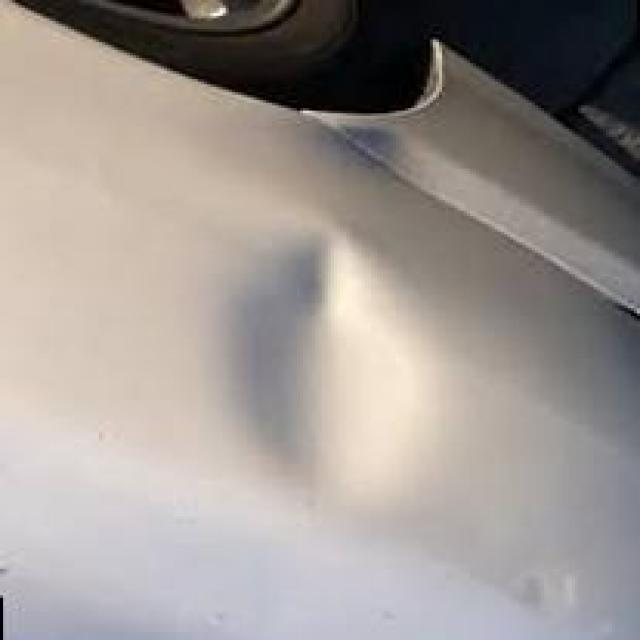dent: (198, 214, 458, 502)
